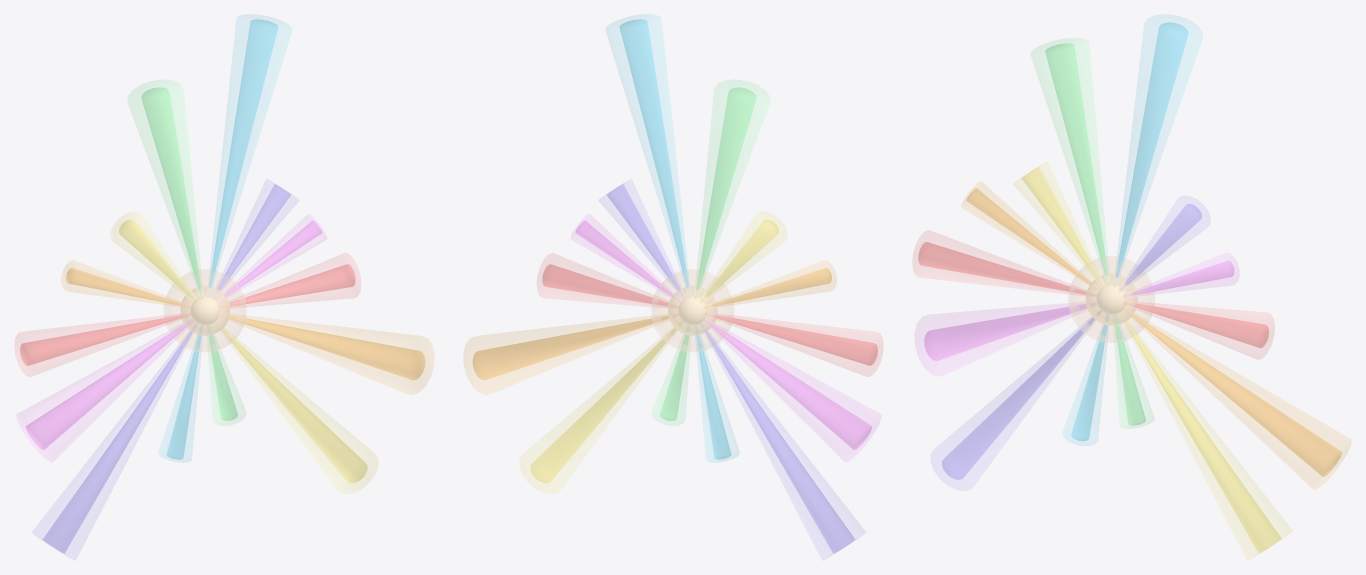
File: fx3d-light-rays.glb
3 views of the same model, side by side, from view 1: azimuth 30°, elevation 25°; view 2: azimuth 150°, elevation 25°; view 3: azimuth 330°, elevation 25° (orthographic). The views are drawn at different scales.
Parts seen in each view (by area): view 1: ray11_1, ray5_1, ray1_1, ray10_1, ray6_1, ray2_1, Sphere.002, ray7_1, ray11_0, ray5_0, ray0_1, ray1_0 (+19 smaller); view 2: ray11_1, ray5_1, ray1_1, ray10_1, ray6_1, ray2_1, Sphere.002, ray7_1, ray11_0, ray5_0, ray0_1, ray1_0 (+19 smaller); view 3: ray11_1, ray1_1, ray2_1, ray10_1, ray5_1, ray6_1, Sphere.002, ray7_1, ray1_0, ray11_0, ray2_0, ray10_0 (+19 smaller).
Boxes of the visible parts, x1,y1,x2,y2 form: ray11_1: (208,14,291,287); ray5_1: (32,331,192,560); ray1_1: (229,314,434,394); ray10_1: (127,79,202,290); ray6_1: (16,323,187,461); ray2_1: (221,327,378,493); Sphere.002: (164,269,246,351); ray7_1: (14,314,183,376); ray11_0: (208,19,278,295); ray5_0: (42,324,196,553); ray0_1: (229,253,360,307); ray1_0: (220,314,425,380); ray11_1: (606,14,689,287); ray5_1: (705,331,865,560); ray1_1: (463,314,668,394); ray10_1: (695,79,770,290); ray6_1: (710,323,881,461); ray2_1: (519,327,676,493); Sphere.002: (651,269,733,351); ray7_1: (714,314,883,376); ray11_0: (619,19,689,295); ray5_0: (701,324,855,553); ray0_1: (537,253,668,307); ray1_0: (472,314,677,380); ray11_1: (1115,14,1202,278); ray1_1: (1130,313,1351,489); ray2_1: (1124,321,1292,560); ray10_1: (1031,38,1108,275); ray5_1: (930,317,1095,490); ray6_1: (914,302,1087,376); Sphere.002: (1068,256,1154,342); ray7_1: (912,230,1086,295); ray1_0: (1124,308,1341,476); ray11_0: (1114,22,1188,286); ray2_0: (1120,312,1281,552); ray10_0: (1045,43,1108,284).
Size of the model in its own units: 1.12 by 1.3 by 0.2.
